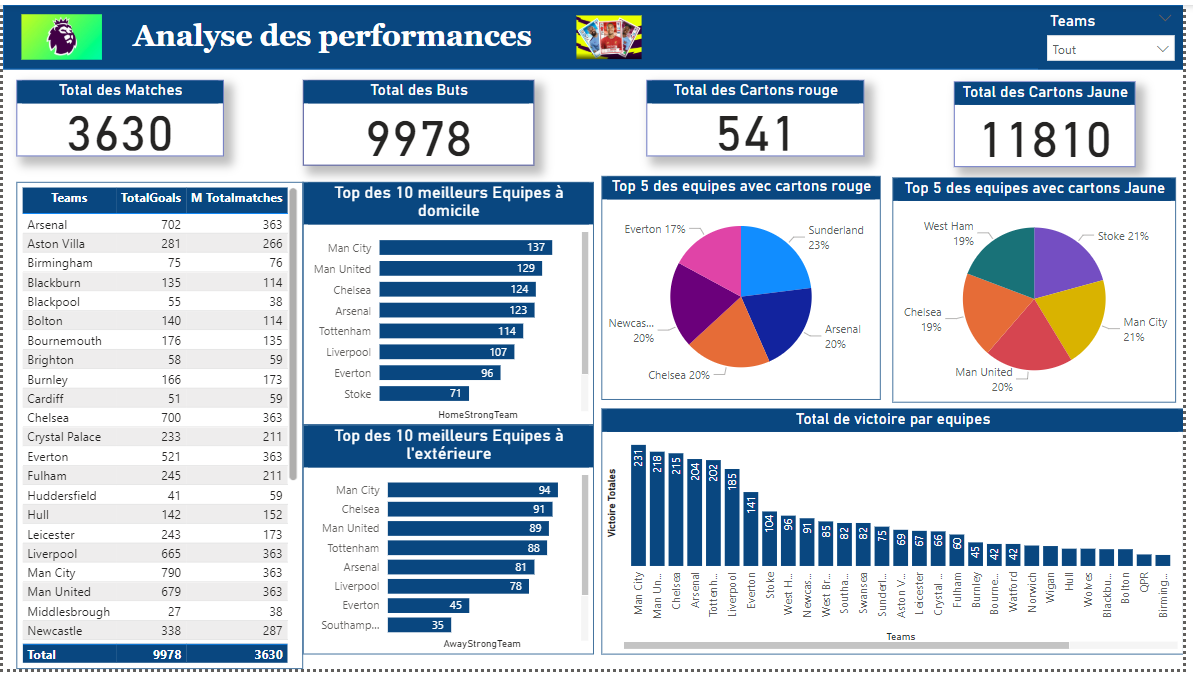

This screenshot's page, from the dashboard's own definition file:
{"tool":"powerbi","page":{"name":"Performances","canvas":[1280,720],"ordinal":1},"visuals":[{"type":"shape","box":[0,0,1280.1,69.9],"z":0},{"type":"textbox","box":[112.2,9.8,489.6,60.2],"z":1000},{"type":"image","box":[14.6,0,97.6,69.9],"z":2000},{"type":"image","box":[616.5,0,81.3,69.9],"z":3000},{"type":"card","title":"Total des Matches","fields":{"Values":["Data.M Totalmatches"]},"box":[14.6,81.3,224.5,83],"z":4000},{"type":"slicer","fields":{"Values":["Teams.Teams"]},"box":[1122.3,1.6,157.8,68.3],"z":5000},{"type":"card","title":"Total des Buts","fields":{"Values":["Data.TotalGoals"]},"box":[325.3,81.3,250.5,92.7],"z":6000},{"type":"card","title":"Total des Cartons rouge","fields":{"Values":["Data.TotalRedCard"]},"box":[697.8,81.3,235.8,83],"z":7000},{"type":"card","title":"Total des Cartons Jaune","fields":{"Values":["Data.TotalYellowCard"]},"box":[1031.2,83,196.8,92.7],"z":8000},{"type":"tableEx","fields":{"Values":["Teams.Teams","Data.TotalGoals","Data.M Totalmatches"]},"box":[13.9,191.2,310.7,527.8],"z":9000},{"type":"clusteredBarChart","title":"Top des 10 meilleurs Equipes à domicile","fields":{"Category":["Teams.Teams"],"Y":["Data.HomeStrongTeam"]},"box":[325.3,191.9,315.5,263.5],"z":10000},{"type":"clusteredBarChart","title":"Top des 10 meilleurs Equipes à l''extérieure","fields":{"Category":["Teams.Teams"],"Y":["Data.AwayStrongTeam"]},"box":[325.3,455.4,315.5,248.9],"z":11000},{"type":"pieChart","title":"Top 5 des equipes avec cartons rouge","fields":{"Y":["Data.TotalRedCard"],"Category":["Teams.Teams"]},"box":[649,185.4,302.5,242.4],"z":12000},{"type":"pieChart","title":"Top 5 des equipes avec cartons Jaune","fields":{"Y":["Data.TotalYellowCard"],"Category":["Teams.Teams"]},"box":[964.5,187.1,307.4,244],"z":13000},{"type":"clusteredColumnChart","title":"Total de victoire par equipes","fields":{"Category":["Teams.Teams"],"Y":["Data.M TotalWins"]},"box":[649,437.5,631.1,266.8],"z":14000}]}

Visuals, with their boxes in screenshot pixels (x1, y1, x2, y2), scaled from the page's 1280x720 canvas onto the 1193x678 screenshot:
shape: detection(0, 0, 1192, 66)
textbox: detection(105, 9, 561, 66)
image: detection(14, 0, 105, 66)
image: detection(575, 0, 650, 66)
"Total des Matches" card: detection(14, 77, 223, 155)
slicer - Teams.Teams: detection(1046, 2, 1192, 66)
"Total des Buts" card: detection(303, 77, 537, 164)
"Total des Cartons rouge" card: detection(650, 77, 870, 155)
"Total des Cartons Jaune" card: detection(961, 78, 1145, 165)
tableEx - Teams.Teams x Data.TotalGoals: detection(13, 180, 303, 677)
"Top des 10 meilleurs Equipes à domicile" clusteredBarChart: detection(303, 181, 597, 429)
"Top des 10 meilleurs Equipes à l''extérieure" clusteredBarChart: detection(303, 429, 597, 663)
"Top 5 des equipes avec cartons rouge" pieChart: detection(605, 175, 887, 403)
"Top 5 des equipes avec cartons Jaune" pieChart: detection(899, 176, 1185, 406)
"Total de victoire par equipes" clusteredColumnChart: detection(605, 412, 1192, 663)
